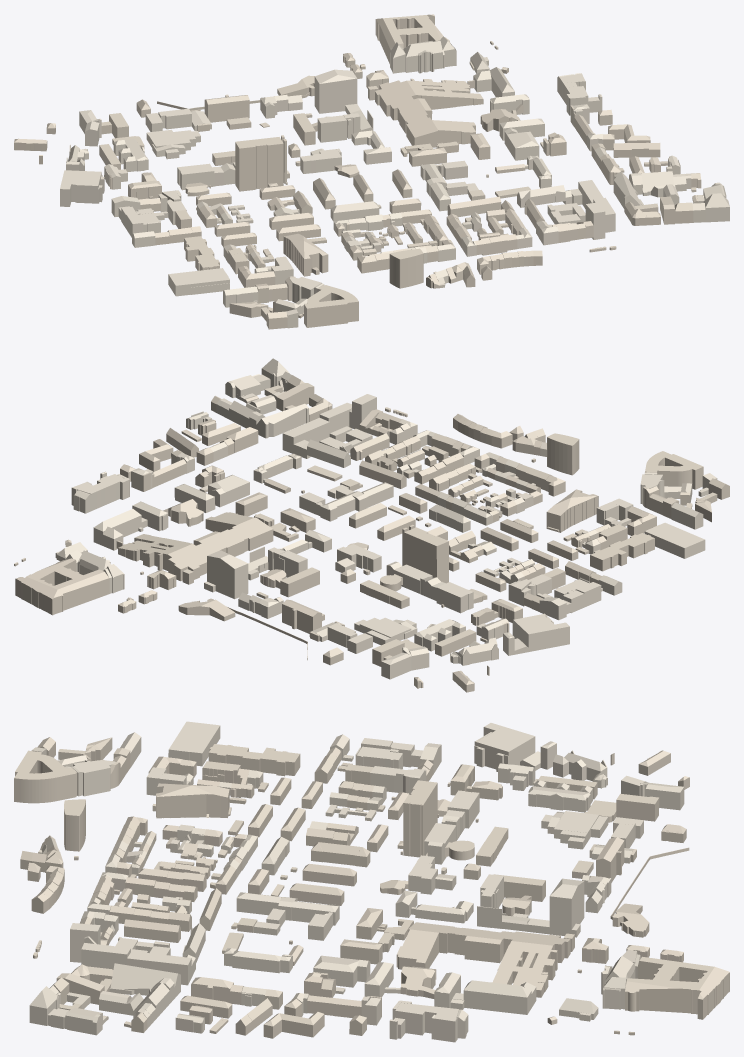
The picture shows the model from 3 angles, top to bottom: view 1: azimuth 30°, elevation 25°; view 2: azimuth 150°, elevation 25°; view 3: azimuth 270°, elevation 25°; orthographic projection. The views are drawn at different scales.
Size of the model in its own units: 674 by 58.54 by 664.
